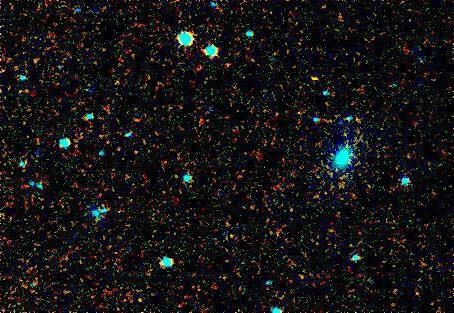star: (300, 62, 330, 92)
